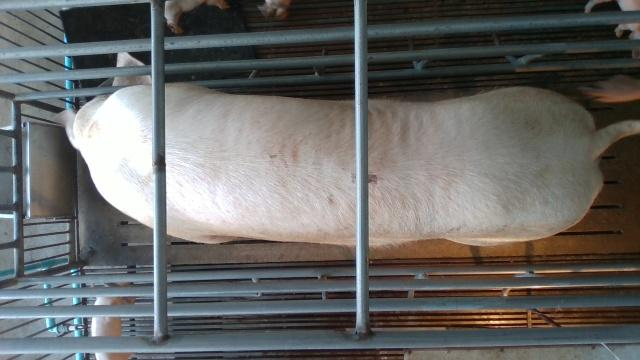piglet: (92, 282, 135, 359), (585, 0, 640, 56), (165, 2, 232, 34), (578, 74, 640, 102)
sow-stand: (52, 50, 638, 247)
